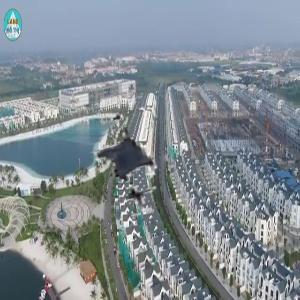drone: (49, 93, 180, 224)
